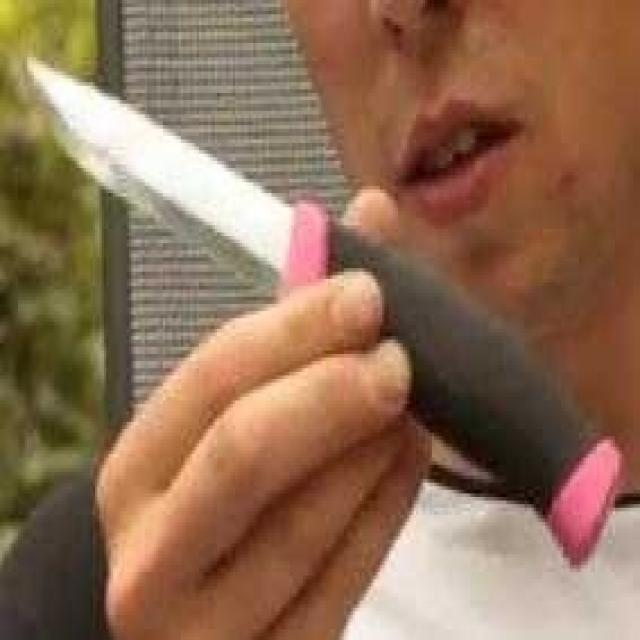knife: (21, 48, 630, 587)
